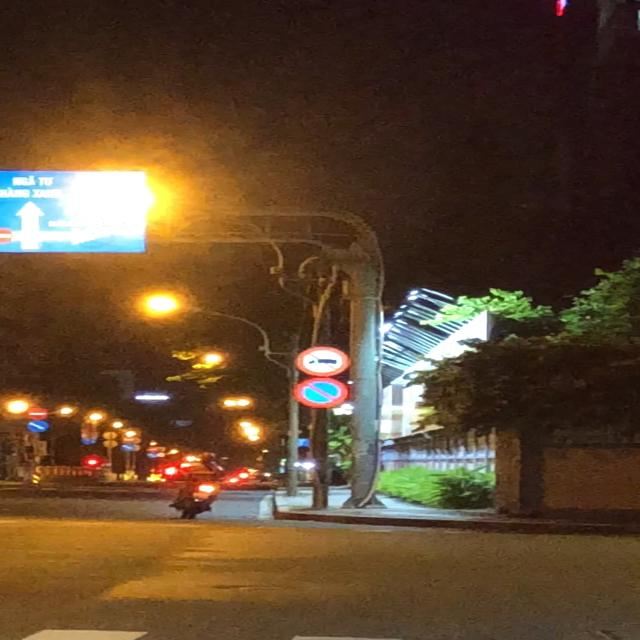Bien bao cam do xe: (291, 377, 359, 411)
Bien bao cam xe so-mi ro-mooc: (288, 342, 359, 378)
